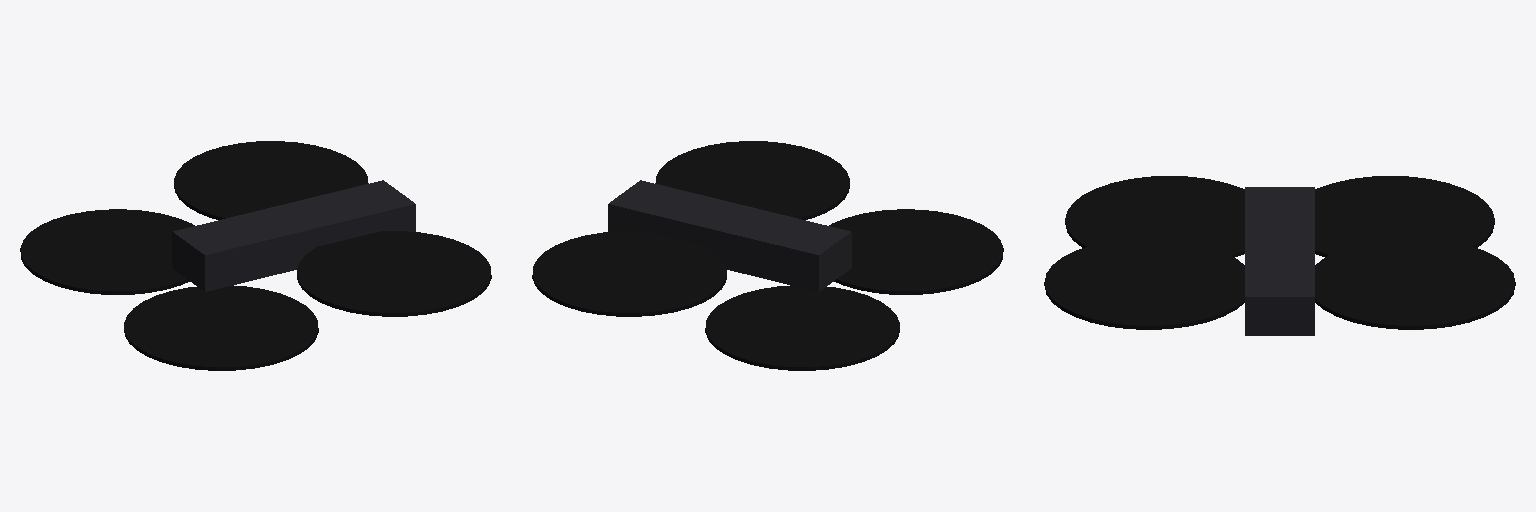
The robot description file, URDF, robot "mavic_2_pro":
<?xml version="1.0"?>
<!--
DJI Mavic 2 Pro URDF — kinematic description for OmniSim.

Geometry mirrors the legacy Mavic2Pro.proto: a body link plus four
continuous-rotation propeller joints, plus a three-axis camera gimbal
(yaw -> pitch -> roll) ending in a downward-facing camera. Joint names
are preserved from the PROTO so the existing mavic_omnilink_bridge
controller can keep its getDevice("front left propeller") etc. lookups.

URDF can't model rotor lift on its own — there is no Propeller analogue.
Lift + reaction torque are applied via supervisor add_force_with_offset
in mavic_dynamics.py at each controller tick. The continuous joints
exist mainly so the visual rotors spin; the actual flight forces come
from the dynamics module reading the same motor target velocities the
bridge sends.

Sensors (camera + IMU + GPS) are emitted via <gazebo><sensor> blocks;
the URDF importer materialises them as Camera / InertialUnit / Gyro /
Accelerometer / GPS nodes when OMNISIM_URDF_USE_SENSORS=1 is set.
-->
<robot name="mavic_2_pro" xmlns:xacro="http://ros.org/wiki/xacro">

  <!-- =========================================================
       Body
       ========================================================= -->
  <link name="base_link">
    <visual>
      <origin xyz="0 0 0" rpy="0 0 0"/>
      <geometry>
        <box size="0.30 0.08 0.05"/>
      </geometry>
      <material name="mavic_grey">
        <color rgba="0.18 0.18 0.20 1.0"/>
      </material>
    </visual>
    <collision>
      <origin xyz="0 0 0" rpy="0 0 0"/>
      <geometry>
        <box size="0.30 0.08 0.05"/>
      </geometry>
    </collision>
    <inertial>
      <!-- Keep the CoM at the link origin: an inertial-origin offset here made
           the imported body EXPLODE at rest under Newton (measured in issue
           #10: tumbling at 2.8 m/s in idle with zero applied force, then
           NaN-teleports to spawn). The hover thrust-centroid balance is
           handled in the bridge's mavic_dynamics.py instead. -->
      <origin xyz="0 0 0" rpy="0 0 0"/>
      <mass value="0.9"/>
      <inertia ixx="0.005" ixy="0" ixz="0" iyy="0.010" iyz="0" izz="0.012"/>
    </inertial>
  </link>

  <!-- =========================================================
       Propellers — 4 continuous joints, anchor offsets from PROTO
       NOTE: the propeller links carry NO <collision> on purpose
       (public issue #10): the rear discs hang 7 mm below the belly
       box, so the craft rested on two thin spinning discs, jittered,
       and flipped upside down within seconds while IDLE on the
       ground. A real Mavic rests on its body; the belly box is the
       ground contact. Lift comes from the bridge's RotorDynamics,
       not from these links, so nothing physical is lost.
       ========================================================= -->
  <joint name="front left propeller" type="continuous">
    <parent link="base_link"/>
    <child link="front_left_propeller_link"/>
    <origin xyz="0.054854 0.151294 -0.003" rpy="0 0 0"/>
    <axis xyz="0 0 1"/>
    <limit effort="30.0" velocity="576.0"/>
    <dynamics damping="0.0" friction="0.0"/>
  </joint>
  <link name="front_left_propeller_link">
    <visual>
      <origin xyz="0 0 0" rpy="0 0 0"/>
      <geometry>
        <cylinder radius="0.12" length="0.005"/>
      </geometry>
      <material name="prop_dark">
        <color rgba="0.1 0.1 0.1 1.0"/>
      </material>
    </visual>
    <inertial>
      <mass value="0.02"/>
      <inertia ixx="7.3e-05" ixy="0" ixz="0" iyy="7.3e-05" iyz="0" izz="1.4e-04"/>
    </inertial>
  </link>

  <joint name="front right propeller" type="continuous">
    <parent link="base_link"/>
    <child link="front_right_propeller_link"/>
    <origin xyz="0.054854 -0.151294 -0.003" rpy="0 0 0"/>
    <axis xyz="0 0 1"/>
    <limit effort="30.0" velocity="576.0"/>
    <dynamics damping="0.0" friction="0.0"/>
  </joint>
  <link name="front_right_propeller_link">
    <visual>
      <origin xyz="0 0 0" rpy="0 0 0"/>
      <geometry>
        <cylinder radius="0.12" length="0.005"/>
      </geometry>
      <material name="prop_dark"/>
    </visual>
    <inertial>
      <mass value="0.02"/>
      <inertia ixx="7.3e-05" ixy="0" ixz="0" iyy="7.3e-05" iyz="0" izz="1.4e-04"/>
    </inertial>
  </link>

  <joint name="rear left propeller" type="continuous">
    <parent link="base_link"/>
    <child link="rear_left_propeller_link"/>
    <origin xyz="-0.177179 0.127453 -0.032" rpy="0 0 0"/>
    <axis xyz="0 0 1"/>
    <limit effort="30.0" velocity="576.0"/>
    <dynamics damping="0.0" friction="0.0"/>
  </joint>
  <link name="rear_left_propeller_link">
    <visual>
      <origin xyz="0 0 0" rpy="0 0 0"/>
      <geometry>
        <cylinder radius="0.12" length="0.005"/>
      </geometry>
      <material name="prop_dark"/>
    </visual>
    <inertial>
      <mass value="0.02"/>
      <inertia ixx="7.3e-05" ixy="0" ixz="0" iyy="7.3e-05" iyz="0" izz="1.4e-04"/>
    </inertial>
  </link>

  <joint name="rear right propeller" type="continuous">
    <parent link="base_link"/>
    <child link="rear_right_propeller_link"/>
    <origin xyz="-0.177179 -0.127453 -0.032" rpy="0 0 0"/>
    <axis xyz="0 0 1"/>
    <limit effort="30.0" velocity="576.0"/>
    <dynamics damping="0.0" friction="0.0"/>
  </joint>
  <link name="rear_right_propeller_link">
    <visual>
      <origin xyz="0 0 0" rpy="0 0 0"/>
      <geometry>
        <cylinder radius="0.12" length="0.005"/>
      </geometry>
      <material name="prop_dark"/>
    </visual>
    <inertial>
      <mass value="0.02"/>
      <inertia ixx="7.3e-05" ixy="0" ixz="0" iyy="7.3e-05" iyz="0" izz="1.4e-04"/>
    </inertial>
  </link>

  <!-- =========================================================
       Camera gimbal: yaw -> pitch -> roll
       ========================================================= -->
  <joint name="camera yaw" type="revolute">
    <parent link="base_link"/>
    <child link="camera_yaw_link"/>
    <origin xyz="0.0412774 -0.00469654 -0.00405862" rpy="0 0 0"/>
    <axis xyz="0 0 1"/>
    <limit lower="-1.7" upper="1.7" effort="5.0" velocity="2.0"/>
  </joint>
  <link name="camera_yaw_link">
    <inertial>
      <mass value="0.01"/>
      <inertia ixx="1e-06" ixy="0" ixz="0" iyy="1e-06" iyz="0" izz="1e-06"/>
    </inertial>
  </link>

  <joint name="camera pitch" type="revolute">
    <parent link="camera_yaw_link"/>
    <child link="camera_pitch_link"/>
    <origin xyz="0.000625212 -0.00530346 -0.0207448" rpy="0 0 0"/>
    <axis xyz="0 1 0"/>
    <limit lower="-0.5" upper="1.7" effort="5.0" velocity="2.0"/>
  </joint>
  <link name="camera_pitch_link">
    <inertial>
      <mass value="0.01"/>
      <inertia ixx="1e-06" ixy="0" ixz="0" iyy="1e-06" iyz="0" izz="1e-06"/>
    </inertial>
  </link>

  <joint name="camera roll" type="revolute">
    <parent link="camera_pitch_link"/>
    <child link="camera_roll_link"/>
    <origin xyz="0.00754686 0.0160388 -0.00586401" rpy="0 0 0"/>
    <axis xyz="1 0 0"/>
    <limit lower="-0.5" upper="0.5" effort="5.0" velocity="2.0"/>
  </joint>
  <link name="camera_roll_link">
    <visual>
      <!-- Keep the housing behind the optical origin. With the box centred at
           the sensor origin the Camera renders the inside of its own body. -->
      <origin xyz="-0.020 0 0" rpy="0 0 0"/>
      <geometry>
        <box size="0.025 0.020 0.022"/>
      </geometry>
      <material name="cam_dark">
        <color rgba="0.08 0.08 0.08 1.0"/>
      </material>
    </visual>
    <inertial>
      <origin xyz="-0.00915058 0 -0.000984" rpy="0 0 0"/>
      <mass value="0.0333"/>
      <inertia ixx="1.5e-06" ixy="0" ixz="0" iyy="1.5e-06" iyz="0" izz="1.5e-06"/>
    </inertial>
  </link>

  <!-- Put the optical origin in front of the gimbal housing and airframe.
       A sensor attached at camera_roll_link's origin is physically inside the
       imported robot mesh and renders the housing instead of the scene. -->
  <joint name="camera optical mount" type="fixed">
    <parent link="camera_roll_link"/>
    <child link="camera_optical_link"/>
    <origin xyz="0.15 0 0" rpy="0 0 0"/>
  </joint>
  <link name="camera_optical_link">
    <inertial>
      <mass value="0.001"/>
      <inertia ixx="1e-08" ixy="0" ixz="0" iyy="1e-08" iyz="0" izz="1e-08"/>
    </inertial>
  </link>

  <!-- =========================================================
       Sensors (require OMNISIM_URDF_USE_SENSORS=1 to materialise)
       ========================================================= -->
  <gazebo reference="camera_optical_link">
    <sensor name="camera" type="camera">
      <camera>
        <horizontal_fov>0.7854</horizontal_fov>
        <image>
          <width>400</width>
          <height>240</height>
        </image>
      </camera>
      <update_rate>30</update_rate>
    </sensor>
  </gazebo>
  <gazebo reference="base_link">
    <sensor name="inertial unit" type="imu">
      <update_rate>100</update_rate>
    </sensor>
    <sensor name="gps" type="gps">
      <update_rate>10</update_rate>
    </sensor>
  </gazebo>

</robot>

--- Render facts (derived) ---
The picture shows the robot from 3 angles, left to right: view 1: azimuth 30°, elevation 25°; view 2: azimuth 150°, elevation 25°; view 3: azimuth 270°, elevation 25°; orthographic projection.
Robot: mavic_2_pro — 9 links, 8 joints (3 revolute, 4 continuous, 1 fixed); root link base_link; default pose: every joint at zero.
Links seen in each view (by area): view 1: base_link, rear_right_propeller_link, front_right_propeller_link, rear_left_propeller_link, front_left_propeller_link; view 2: base_link, rear_left_propeller_link, front_left_propeller_link, rear_right_propeller_link, front_right_propeller_link; view 3: front_left_propeller_link, front_right_propeller_link, rear_left_propeller_link, rear_right_propeller_link, base_link.
Link boxes in pixels (x1,y1,x2,y2): base_link: (172,180,415,291); rear_right_propeller_link: (124,285,318,370); front_right_propeller_link: (297,231,491,316); rear_left_propeller_link: (20,209,194,294); front_left_propeller_link: (174,141,368,219); base_link: (608,180,851,291); rear_left_propeller_link: (705,285,899,370); front_left_propeller_link: (532,231,726,316); rear_right_propeller_link: (829,209,1003,294); front_right_propeller_link: (655,141,849,219); front_left_propeller_link: (1315,238,1515,329); front_right_propeller_link: (1044,238,1244,329); rear_left_propeller_link: (1315,176,1494,256); rear_right_propeller_link: (1065,176,1244,256); base_link: (1245,187,1314,335).
Size in the robot's own frame: 0.472 by 0.5426 by 0.0667 metres.
Geometry: primitives only (box / cylinder / sphere), no mesh files.
